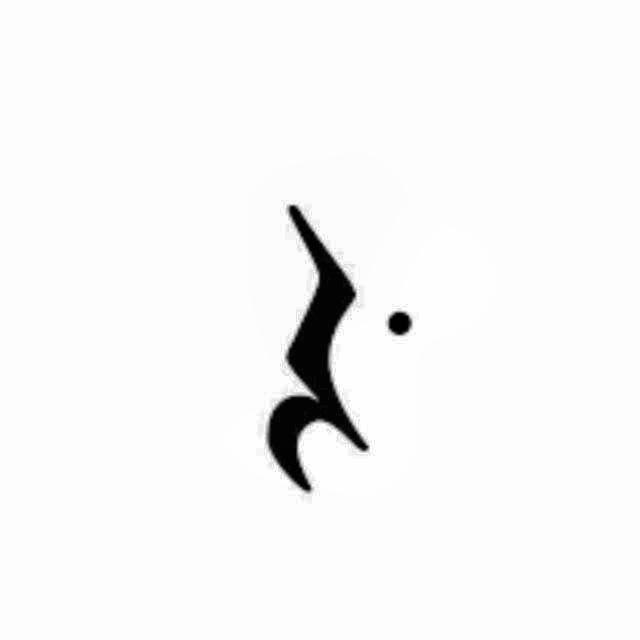Quarter-rest: (234, 182, 446, 514)
